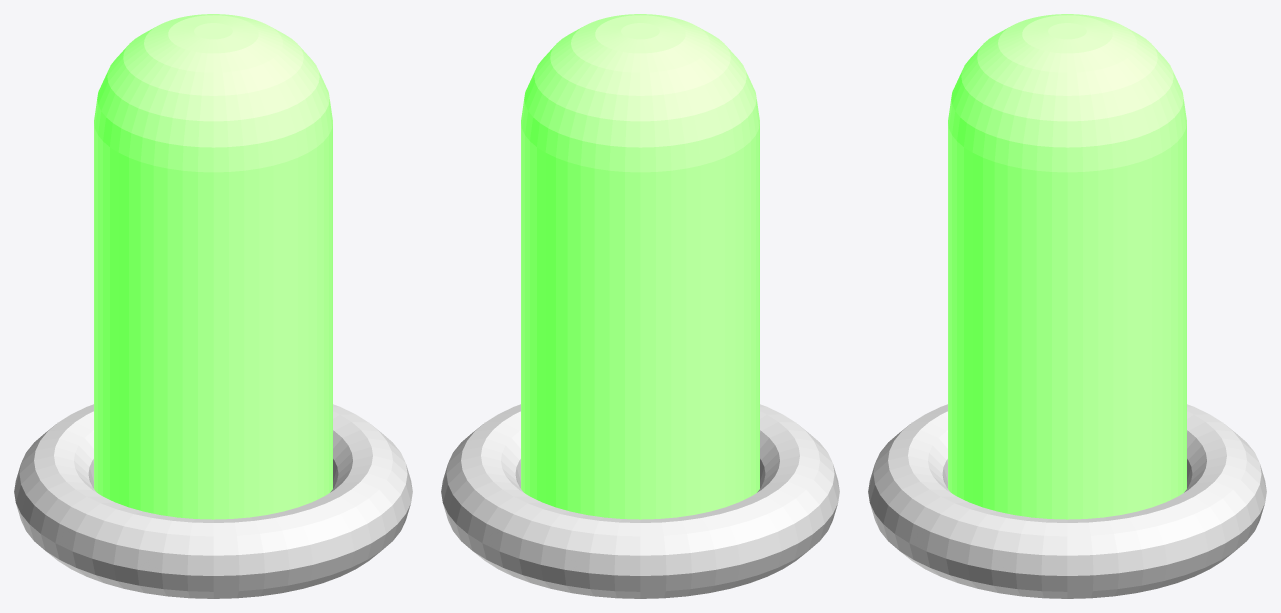
File: Led 2.glb
The picture shows the model from 3 angles, left to right: view 1: azimuth 30°, elevation 25°; view 2: azimuth 150°, elevation 25°; view 3: azimuth 270°, elevation 25°; orthographic projection.
Parts seen in each view (by area): view 1: Led 2; view 2: Led 2; view 3: Led 2.
Boxes of the visible parts, left/top/right/bottom form: Led 2: left=14, top=14, right=412, bottom=598; Led 2: left=441, top=14, right=839, bottom=598; Led 2: left=868, top=14, right=1266, bottom=598.
Size of the model in its own units: 0.125 by 0.1718 by 0.125.
